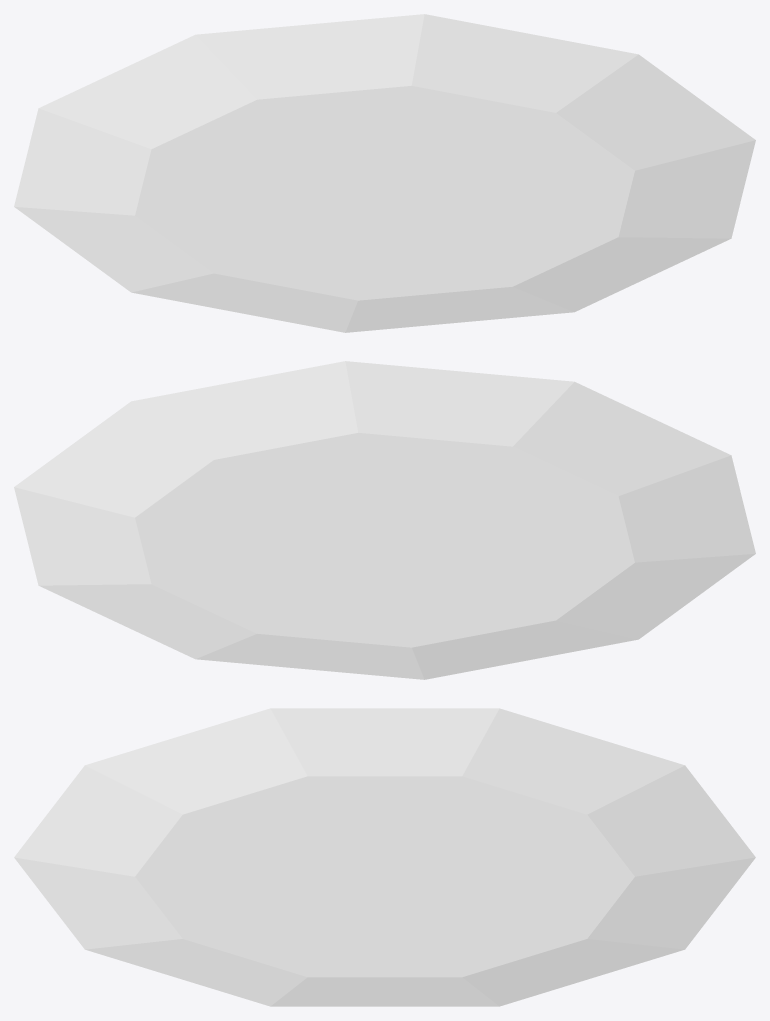
File: tableplate01.gltf
3 views of the same model, one above another, from view 1: azimuth 30°, elevation 25°; view 2: azimuth 150°, elevation 25°; view 3: azimuth 270°, elevation 25° (orthographic). The views are drawn at different scales.
Visible parts, largest first — view 1: Cylinder.001; view 2: Cylinder.001; view 3: Cylinder.001.
Part boxes in pixels (x1=…): Cylinder.001: x1=14, y1=14, x2=755, y2=332; Cylinder.001: x1=14, y1=361, x2=755, y2=679; Cylinder.001: x1=14, y1=708, x2=755, y2=1006.
Bounding box in the file's own units: 0.2903 × 0.00967 × 0.3053.
1 material, 1 textured.
